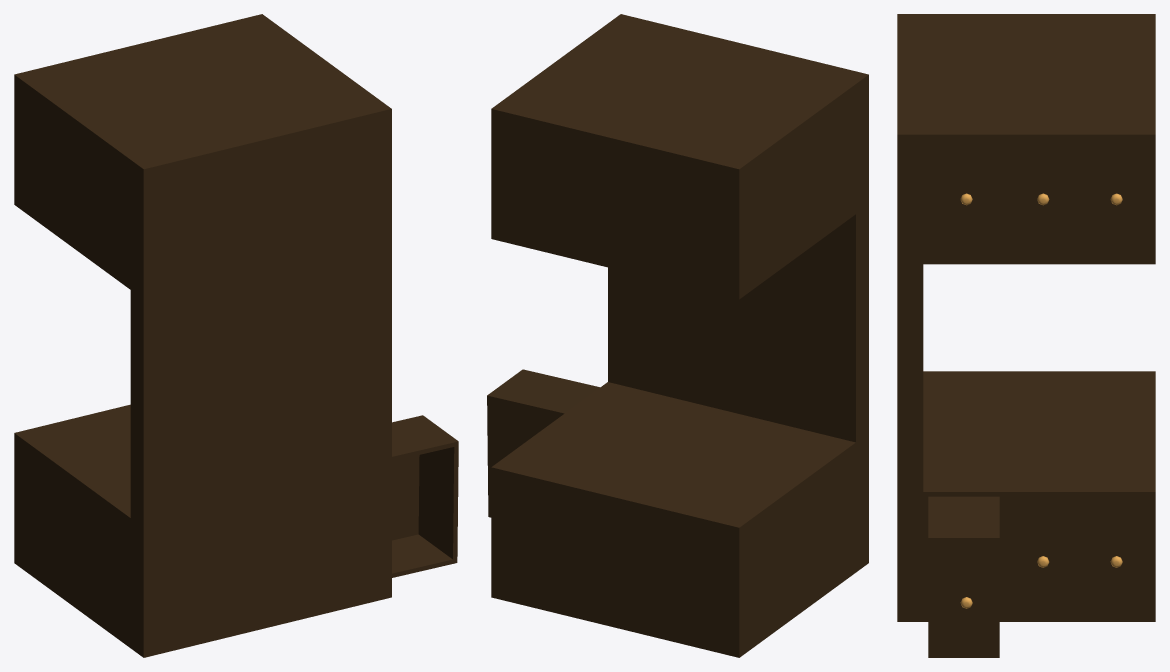
File: desk.fbx
3 views of the same model, side by side, from view 1: azimuth 30°, elevation 25°; view 2: azimuth 150°, elevation 25°; view 3: azimuth 270°, elevation 25° (orthographic).
Parts seen in each view (by area): view 1: desk, drawer_l1; view 2: desk, drawer_l1; view 3: desk, drawer_l1, drawer_l3, drawer_r3, drawer_r1, drawer_l2, drawer_r2.
Part boxes in pixels (bbox=[...]): desk: bbox=[14, 14, 391, 657]; drawer_l1: bbox=[392, 415, 458, 577]; desk: bbox=[491, 14, 868, 657]; drawer_l1: bbox=[487, 369, 599, 517]; desk: bbox=[897, 14, 1155, 621]; drawer_l1: bbox=[928, 496, 999, 657]; drawer_l3: bbox=[1077, 496, 1150, 617]; drawer_r3: bbox=[1077, 139, 1150, 259]; drawer_r1: bbox=[928, 139, 999, 259]; drawer_l2: bbox=[1004, 496, 1072, 617]; drawer_r2: bbox=[1004, 139, 1072, 259].
Bounding box in the file's own units: 113 × 156 × 75.01.
